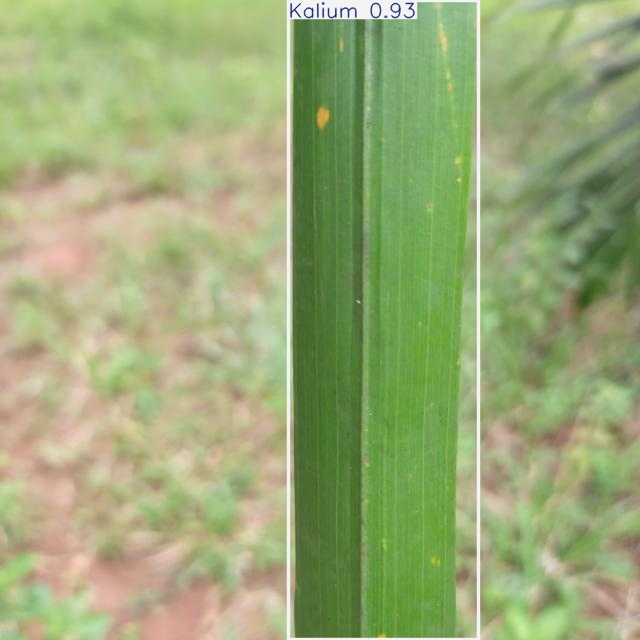Kalium: (288, 0, 479, 640)
